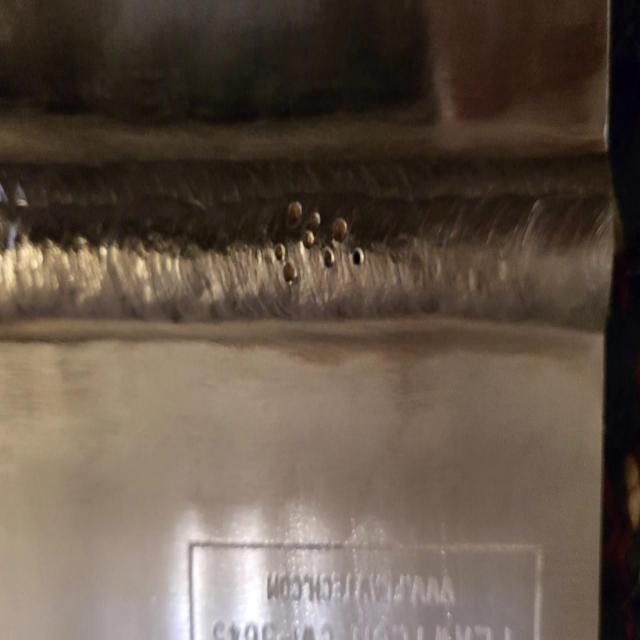Welding Line: (0, 169, 607, 328)
Workpiece: (0, 2, 609, 640)
porosity: (274, 197, 365, 283)
